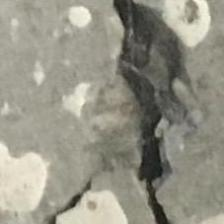Crack: (75, 2, 224, 224)
